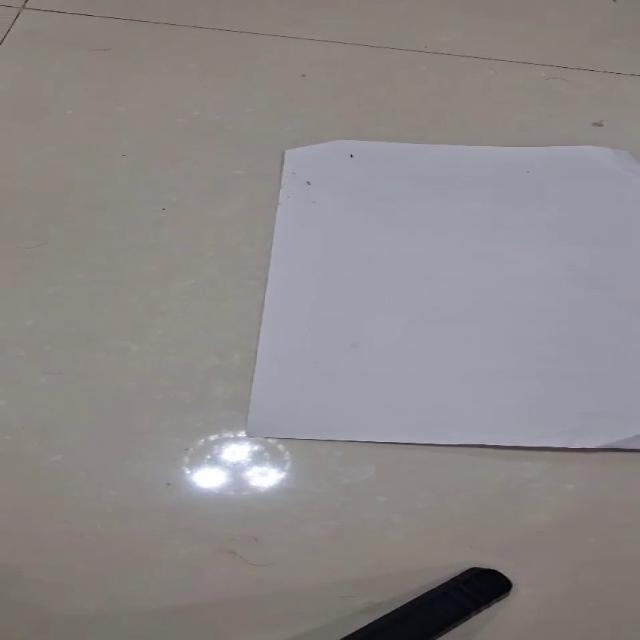paper: (244, 138, 638, 449)
